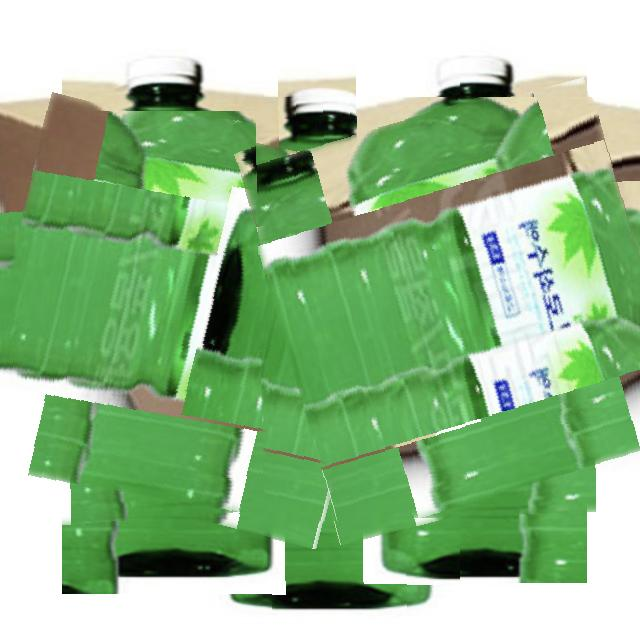recyclable: (255, 97, 640, 524), (0, 111, 380, 529), (196, 74, 460, 616)
